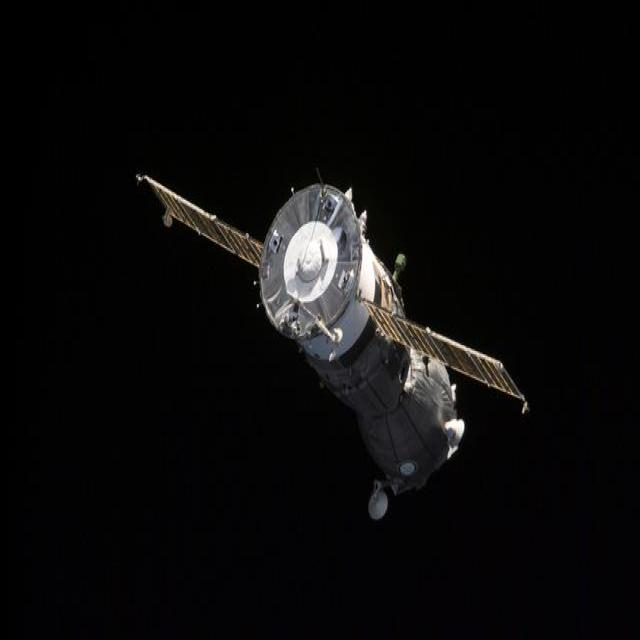medium_debris: (114, 140, 538, 529)
